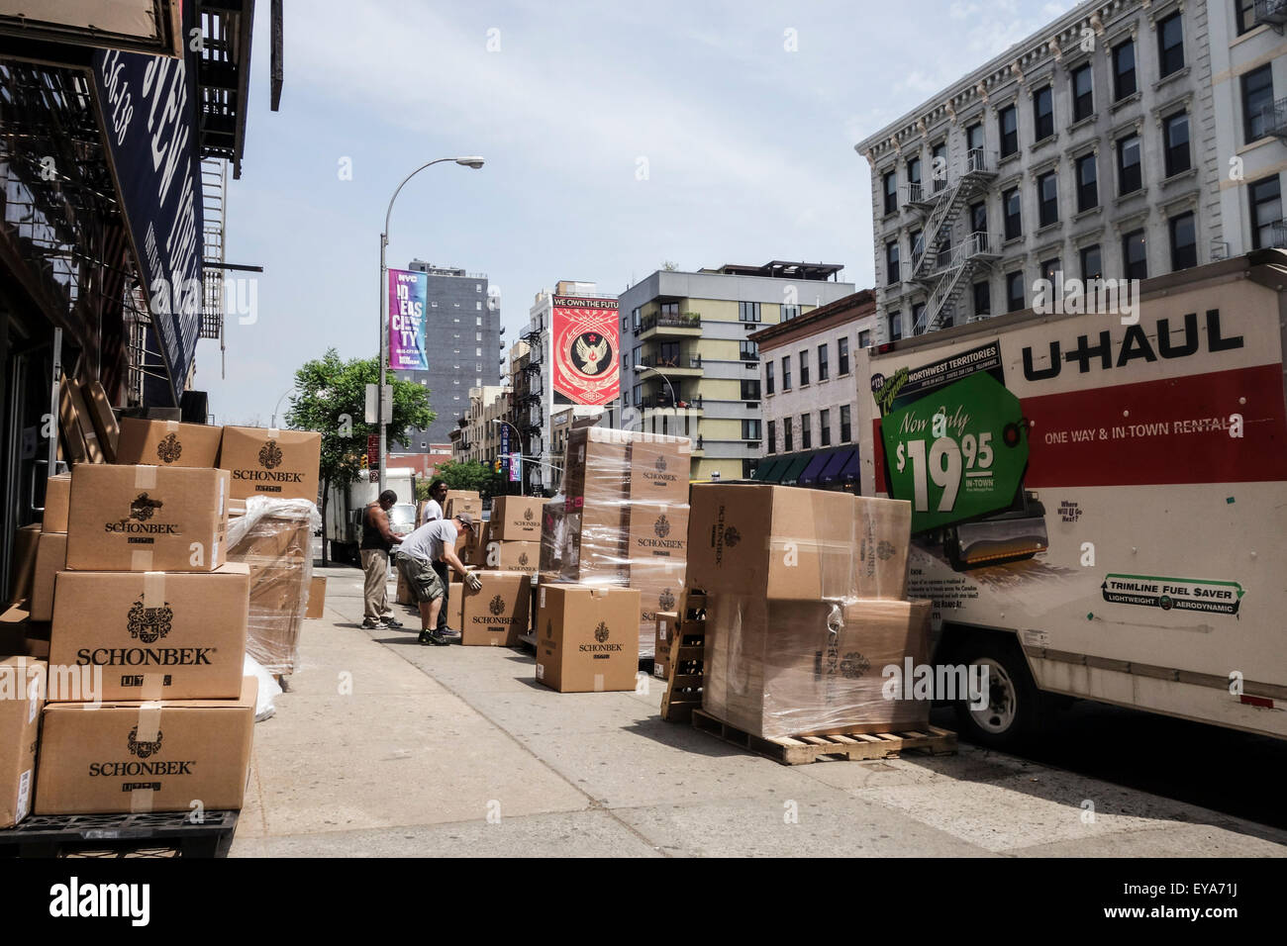DeliveryBox: (662, 461, 897, 616), (15, 567, 264, 702), (34, 688, 277, 817), (40, 451, 235, 571), (512, 576, 653, 707), (208, 415, 329, 511)
Person: (395, 504, 471, 656), (342, 482, 405, 625)
